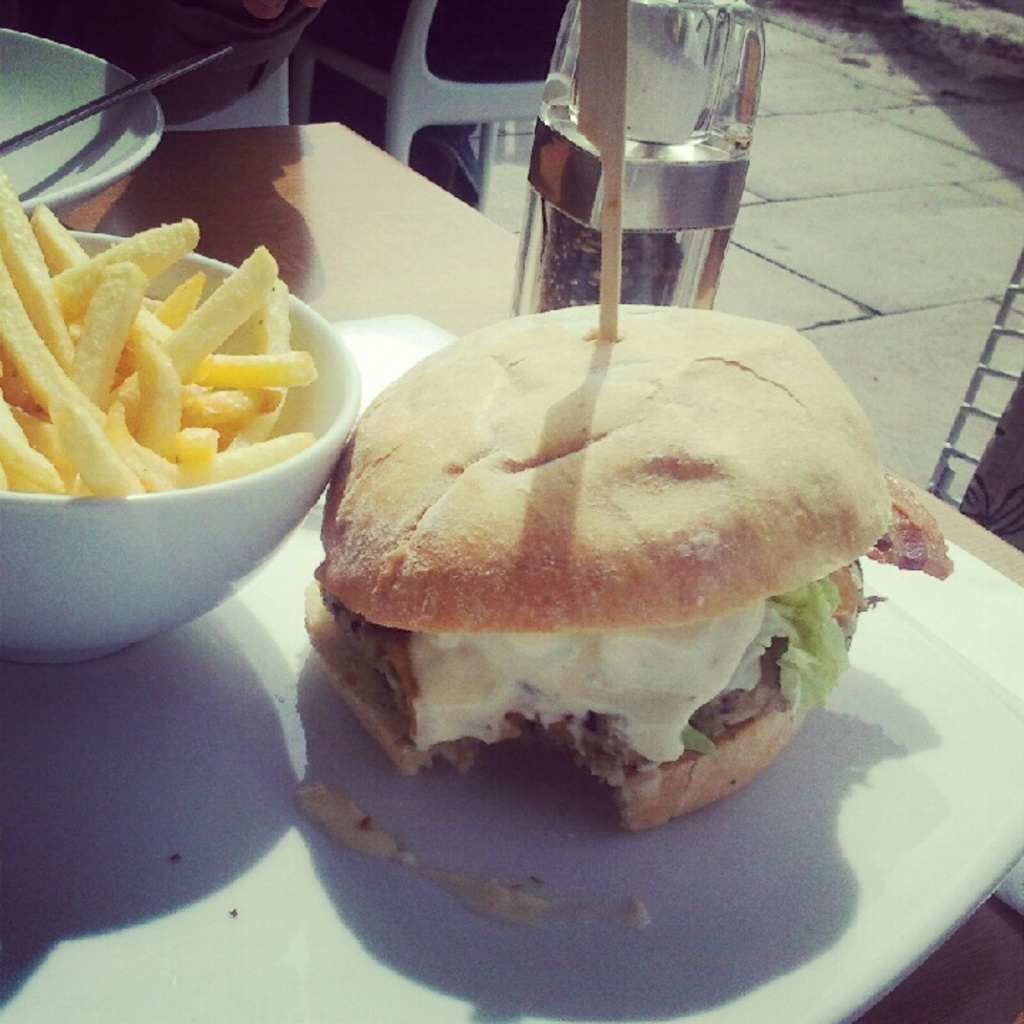French fries: (22, 210, 355, 496)
